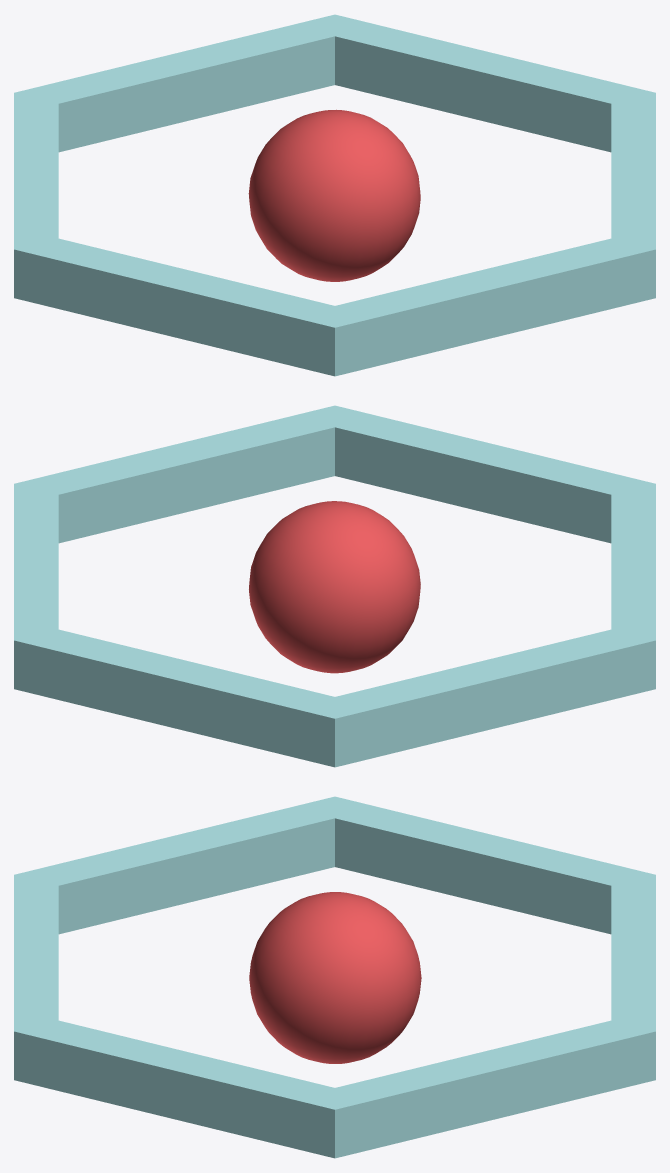
The model's file is hexagon.glb.
3 renders of one model, top to bottom at view 1: azimuth 30°, elevation 25°; view 2: azimuth 150°, elevation 25°; view 3: azimuth 270°, elevation 25°, orthographic.
Visible parts, largest first — view 1: Torus.002; view 2: Torus.002; view 3: Torus.002.
Boxes of the visible parts, x1=… form: Torus.002: x1=14, y1=14, x2=655, y2=376; Torus.002: x1=14, y1=405, x2=655, y2=767; Torus.002: x1=14, y1=796, x2=655, y2=1158.
Size of the model in its own units: 0.43 by 0.1 by 0.3724.
